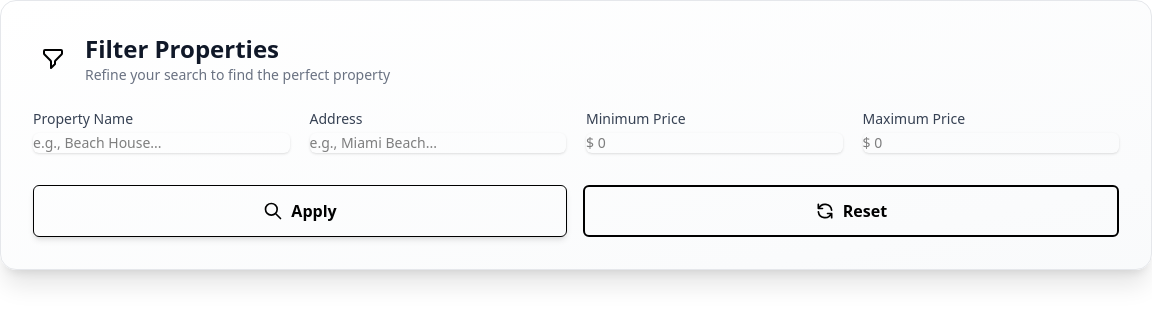
Test case: PropertyFilters › should validate minimum price is not negative
Type "-100" into the number field labelled "Minimum Price" at (714,143), box x1=586 y1=133 x2=842 y2=153
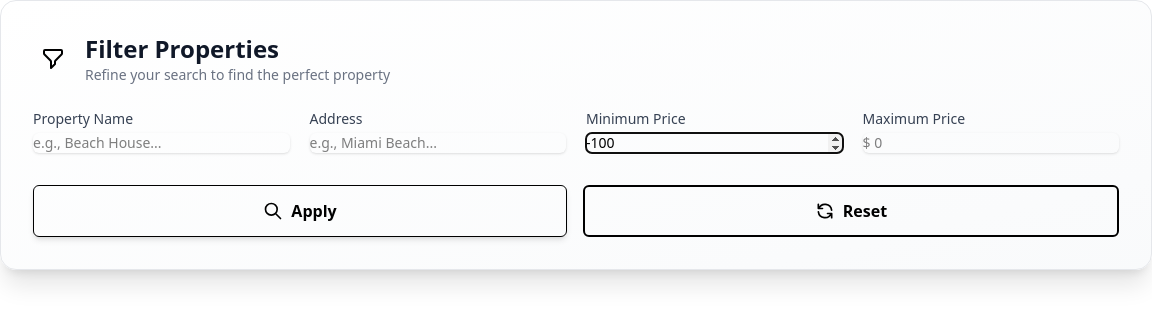
Click the button "Apply" at (300,211), box x1=33 y1=185 x2=567 y2=237
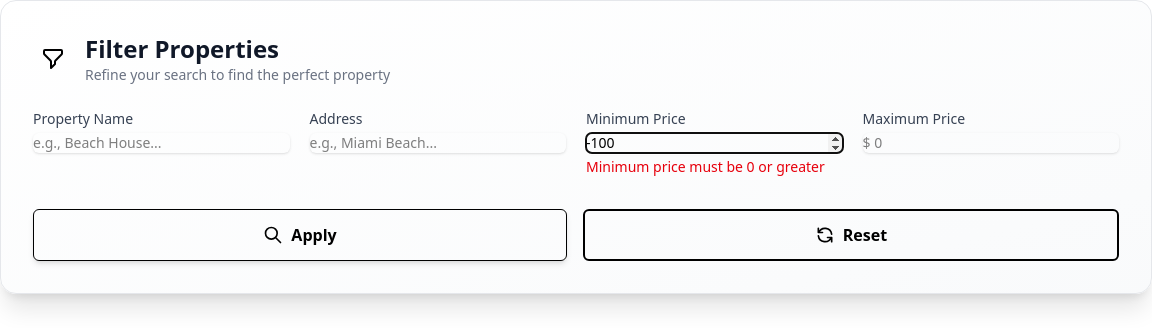
expect the text "Minimum price must be 0 or greater" is shown: met, box x1=586 y1=157 x2=842 y2=177
